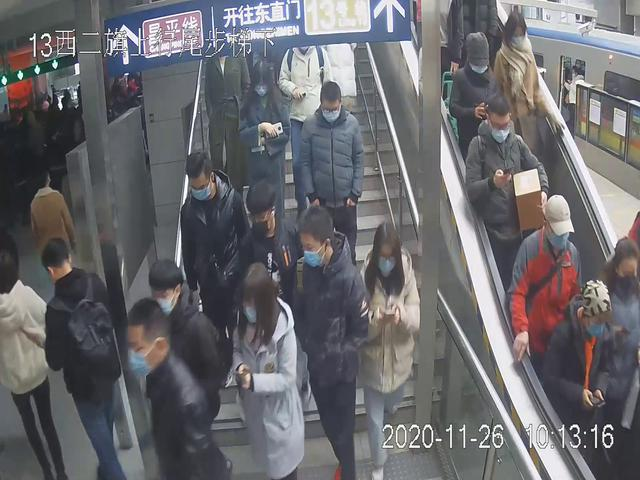person: (290, 206, 369, 480), (39, 235, 123, 480), (465, 88, 550, 302), (355, 217, 422, 480), (229, 260, 308, 480), (177, 149, 258, 357), (1, 242, 68, 480), (508, 193, 586, 390), (291, 77, 365, 269), (233, 59, 293, 221)
